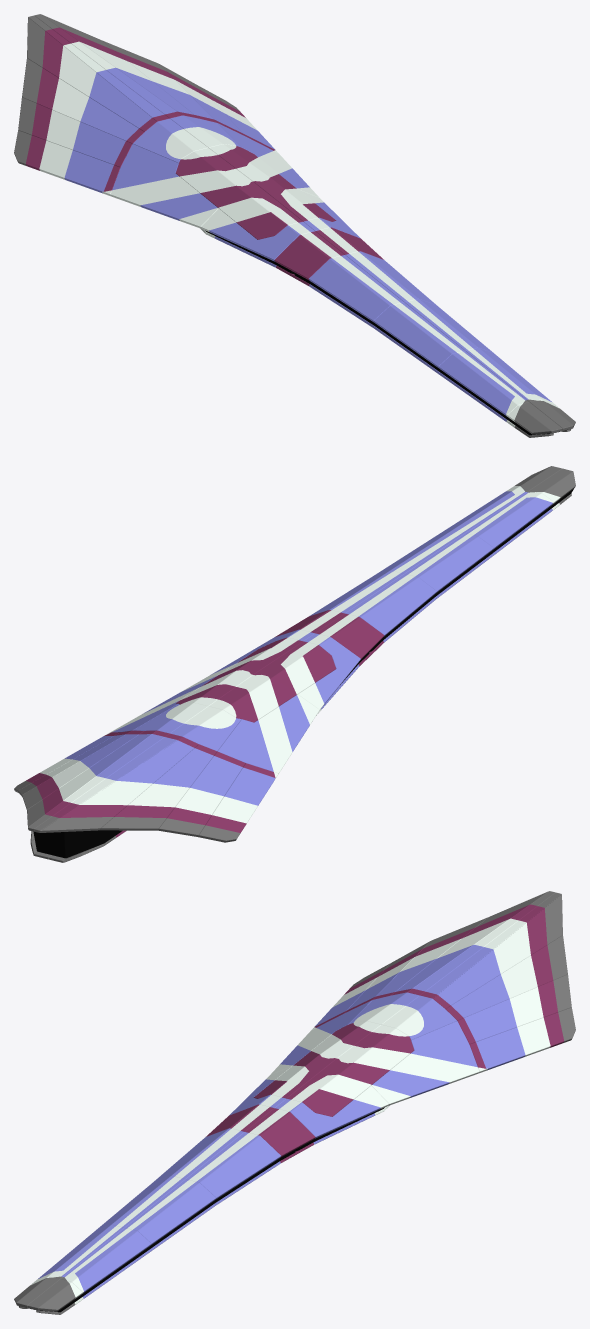
Rendered from phoenix_nova.fbx.
3 renders of one model, top to bottom at view 1: azimuth 30°, elevation 25°; view 2: azimuth 150°, elevation 25°; view 3: azimuth 330°, elevation 25°, orthographic.
Parts seen in each view (by area): view 1: Armor Top, Armor Bottom, Hull; view 2: Armor Top, Hull, Armor Bottom; view 3: Armor Top, Armor Bottom, Hull.
Part boxes in pixels (x1,y1,x2,y2): Armor Top: (14,14,575,434); Armor Bottom: (200,228,571,437); Hull: (205,230,570,435); Armor Top: (14,466,575,842); Hull: (33,488,573,858); Armor Bottom: (30,493,571,862); Armor Top: (14,891,575,1311); Armor Bottom: (18,1105,389,1314); Hull: (19,1107,384,1312).
Bounding box in the file's own units: 400 × 93.46 × 1671.
